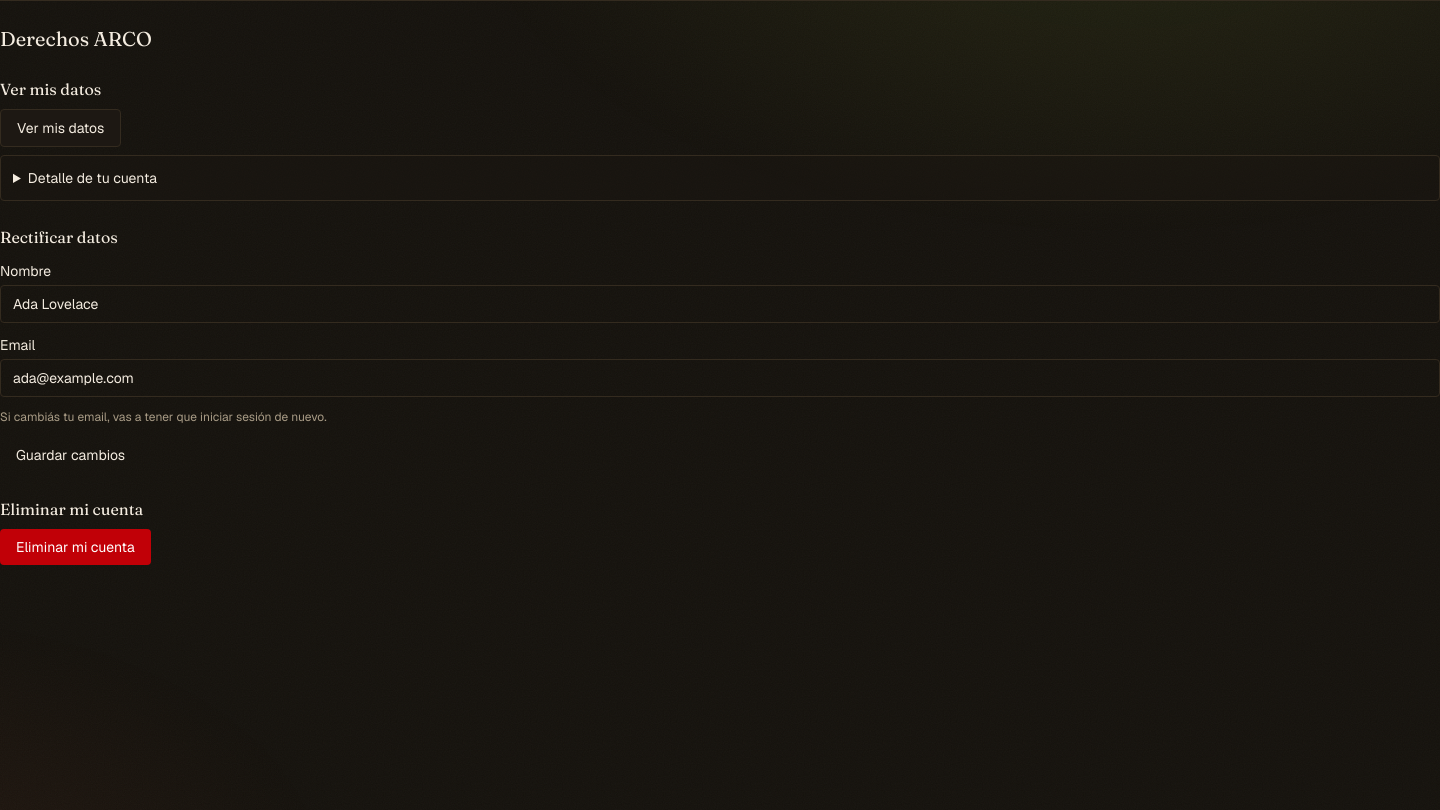
<ArcoPanel> — T-PR6-005..008 › Access: click 'Ver mis datos' → muestra JSON en `<details open>` (T-PR6-006)
The image size is (1440, 810).
Expected: the element with test id "arco-access-details" is shown, [0,155,1439,201]
Click the button "Ver mis datos".
click(61, 128)  # box [0,109,121,147]
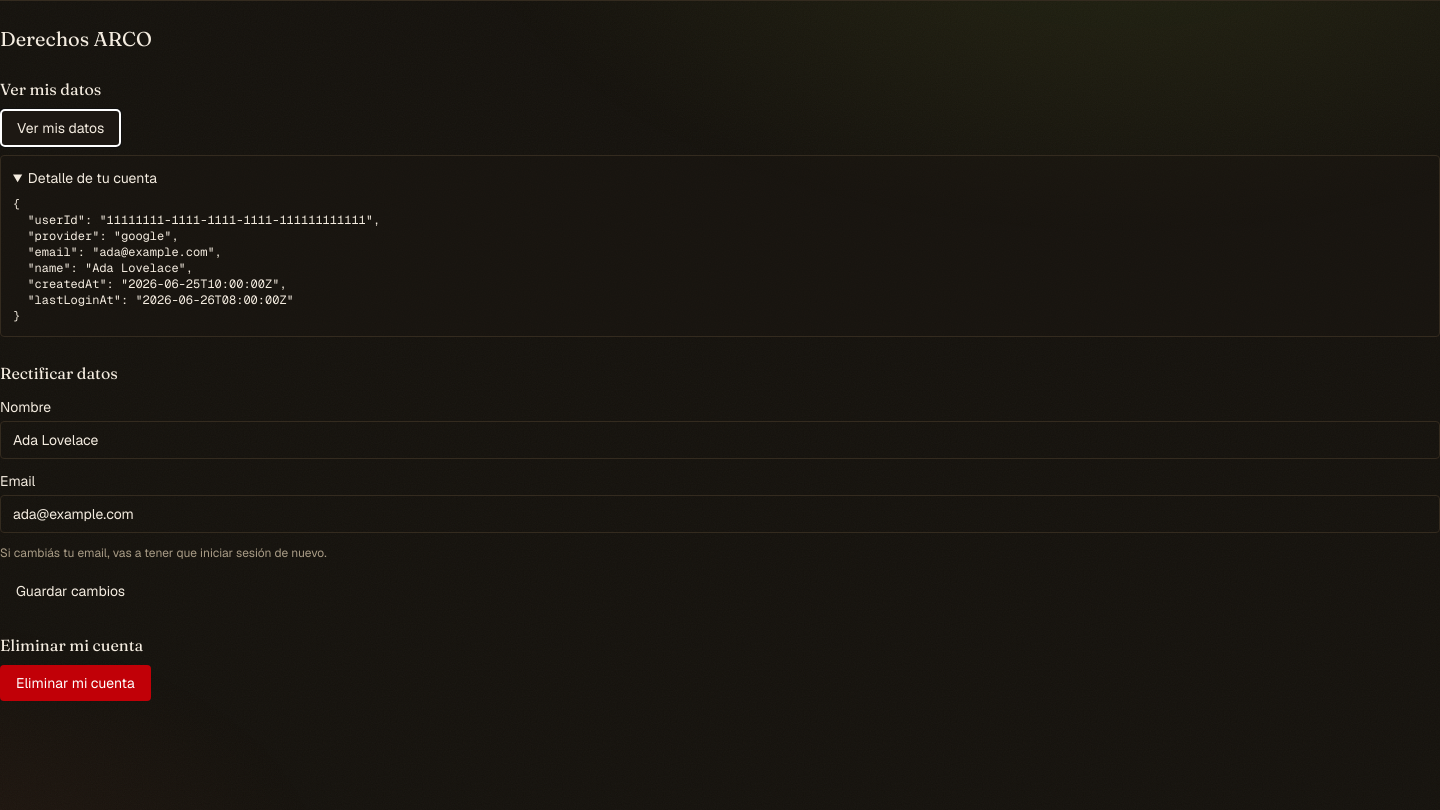
Result: the element with test id "arco-access-details" shows "ada@example.com" at [13,196,380,324]
Result: the element with test id "arco-access-details" shows "Ada Lovelace" at [13,196,380,324]
Result: the element with test id "arco-access-details" shows "google" at [13,196,380,324]
